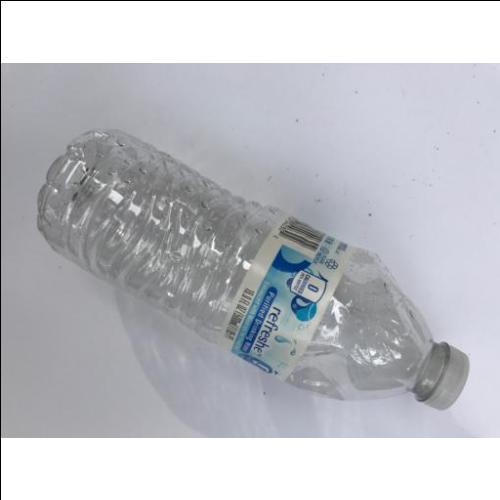plastic: (43, 131, 469, 409)
